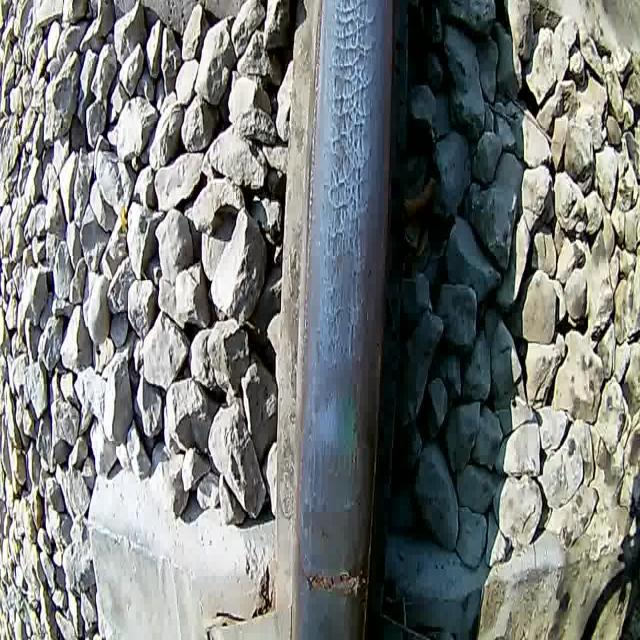Spallings: (297, 560, 369, 602)
Squats: (324, 0, 380, 247), (296, 436, 368, 562), (311, 339, 368, 433), (318, 246, 369, 338)
